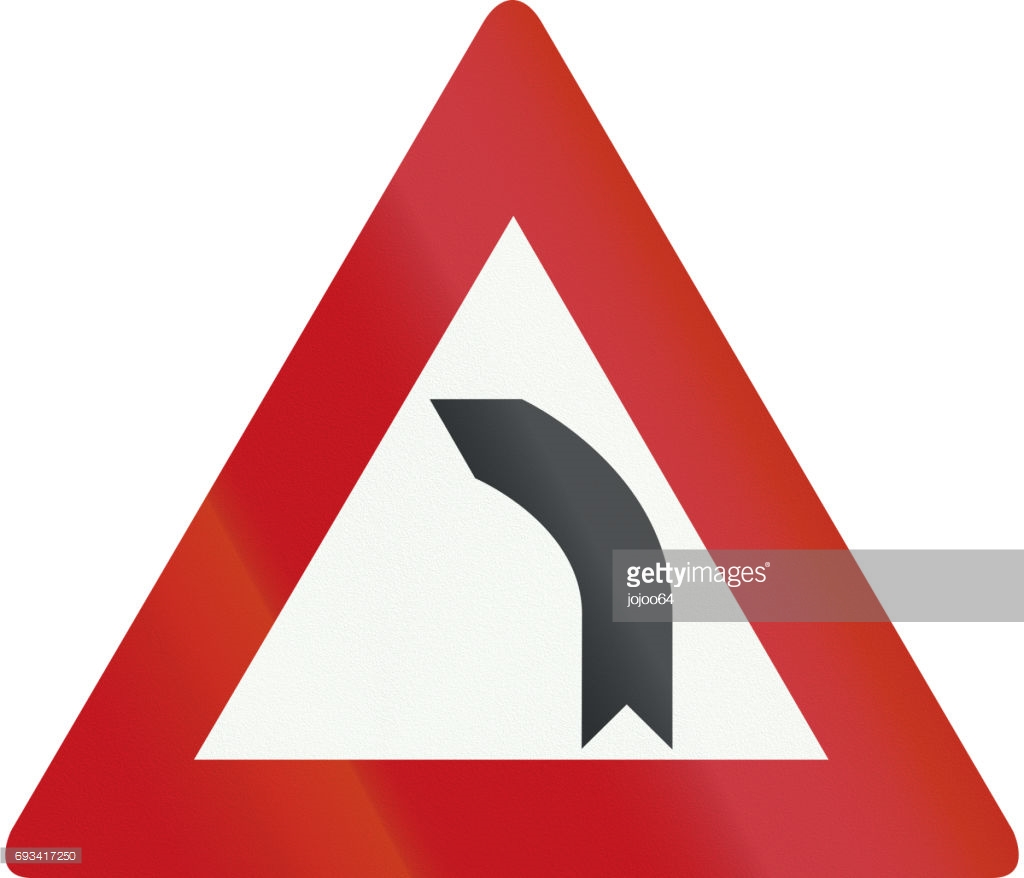Bend_to_left: (1, 3, 1018, 878)
